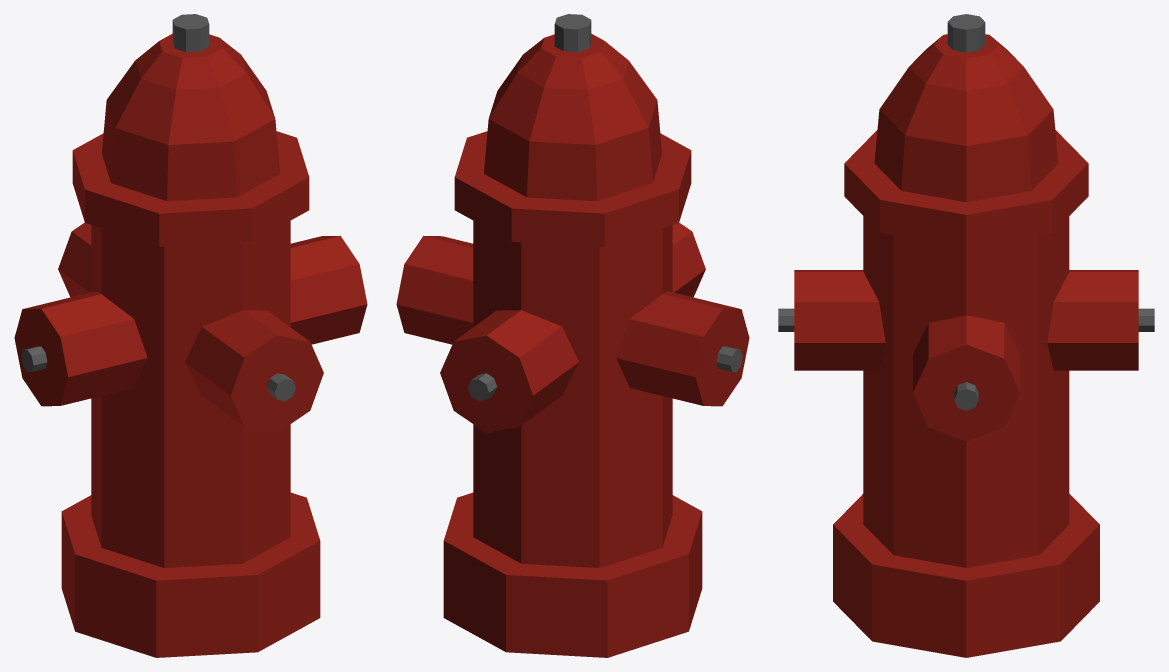
File: FireHydrant.FBX
The picture shows the model from 3 angles, left to right: view 1: azimuth 30°, elevation 25°; view 2: azimuth 150°, elevation 25°; view 3: azimuth 270°, elevation 25°; orthographic projection.
Parts seen in each view (by area): view 1: sohwa; view 2: sohwa; view 3: sohwa.
Part boxes in pixels (left/top/right/bottom): sohwa: left=14, top=14, right=367, bottom=657; sohwa: left=396, top=14, right=749, bottom=657; sohwa: left=778, top=14, right=1154, bottom=657.
Bounding box in the file's own units: 79.03 × 134 × 79.03.
